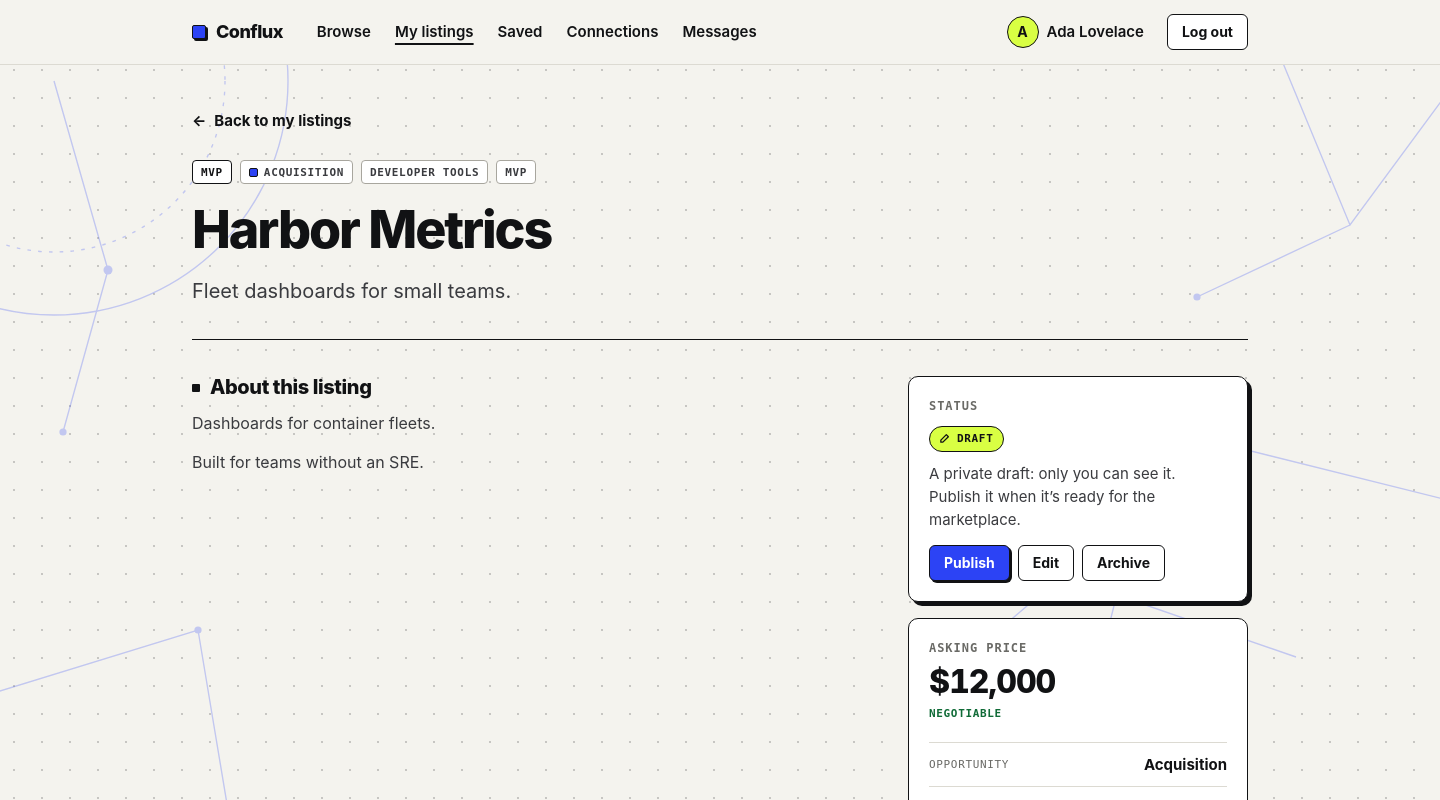
Test case: My listing › reports a 409 on publish and shows the listing’s current state
This screenshot has width=1440, height=800.
Click the button "Publish" at (969, 563), box [929, 545, 1010, 581]
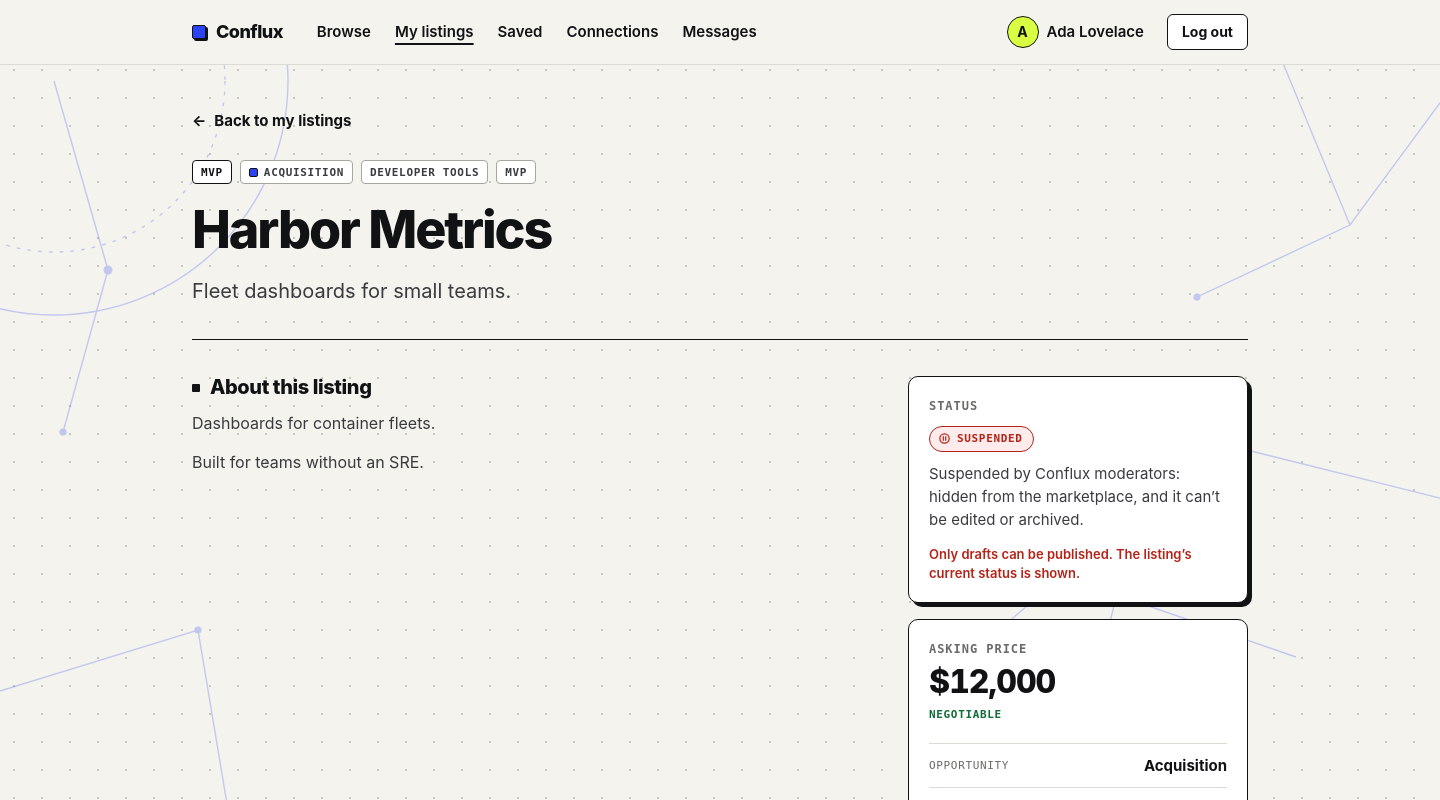
Now the text "Suspended" is shown, box [929, 426, 1034, 452]
Now the message reads "Only drafts can be published. The listing’s current status is shown.", box [929, 546, 1192, 581]
